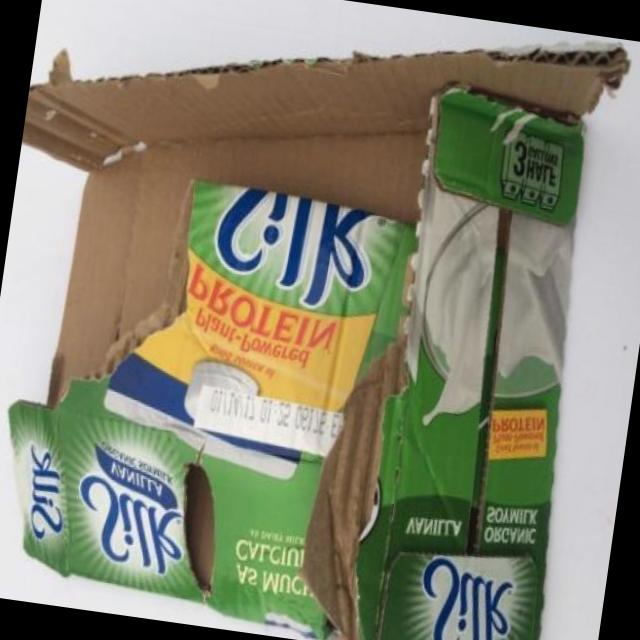cardboard paper: (30, 0, 640, 640), (0, 147, 302, 640)
